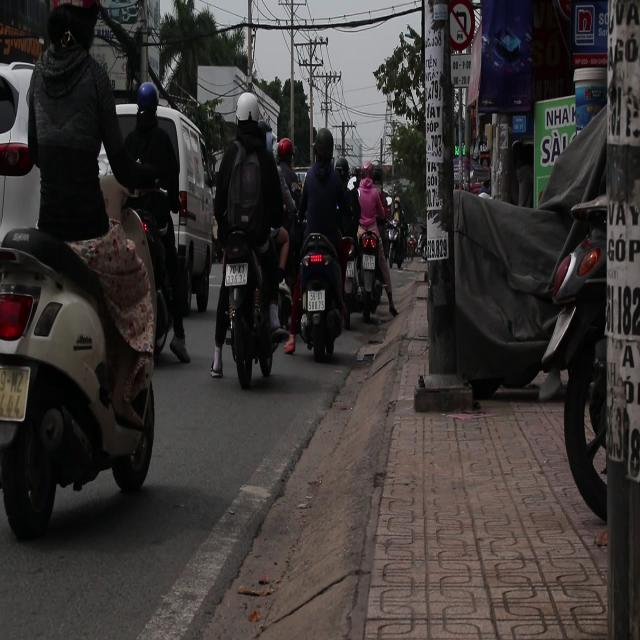motorbike: (3, 193, 165, 549), (202, 206, 282, 404), (342, 216, 398, 348), (293, 236, 348, 362)
